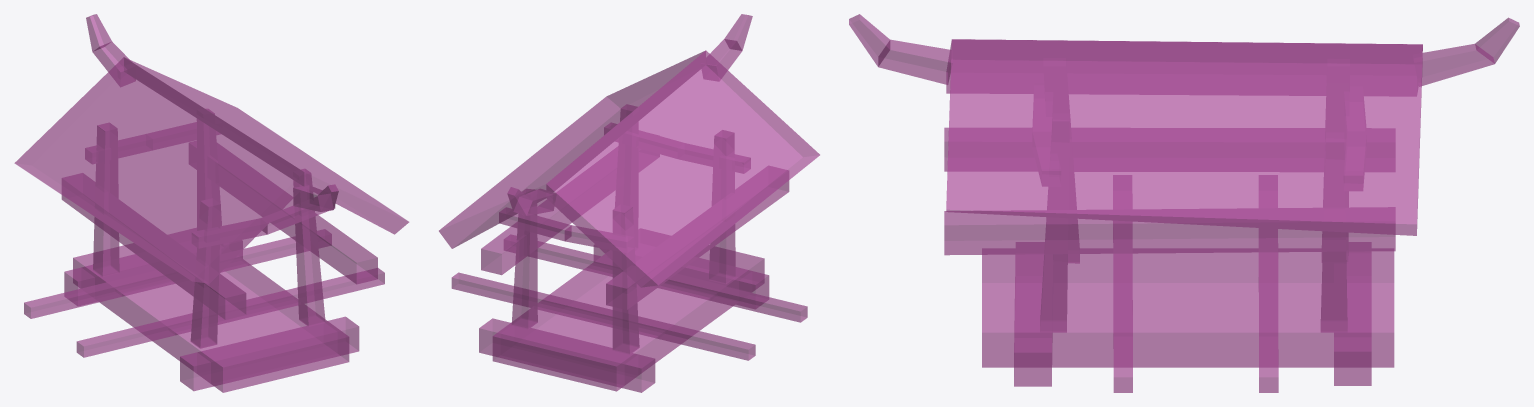
File: SM_Veh_BatteringRam_01_Collision.fbx
The picture shows the model from 3 angles, left to right: view 1: azimuth 30°, elevation 25°; view 2: azimuth 150°, elevation 25°; view 3: azimuth 270°, elevation 25°; orthographic projection. The views are drawn at different scales.
Parts seen in each view (by area): view 1: SM_Veh_BatteringRam_01_Collision; view 2: SM_Veh_BatteringRam_01_Collision; view 3: SM_Veh_BatteringRam_01_Collision.
Boxes of the visible parts, box(x1,y1,x2,y2) form: SM_Veh_BatteringRam_01_Collision: box(14, 14, 408, 392); SM_Veh_BatteringRam_01_Collision: box(439, 14, 819, 392); SM_Veh_BatteringRam_01_Collision: box(849, 14, 1519, 392).
Bounding box in the file's own units: 346 × 250 × 485.
